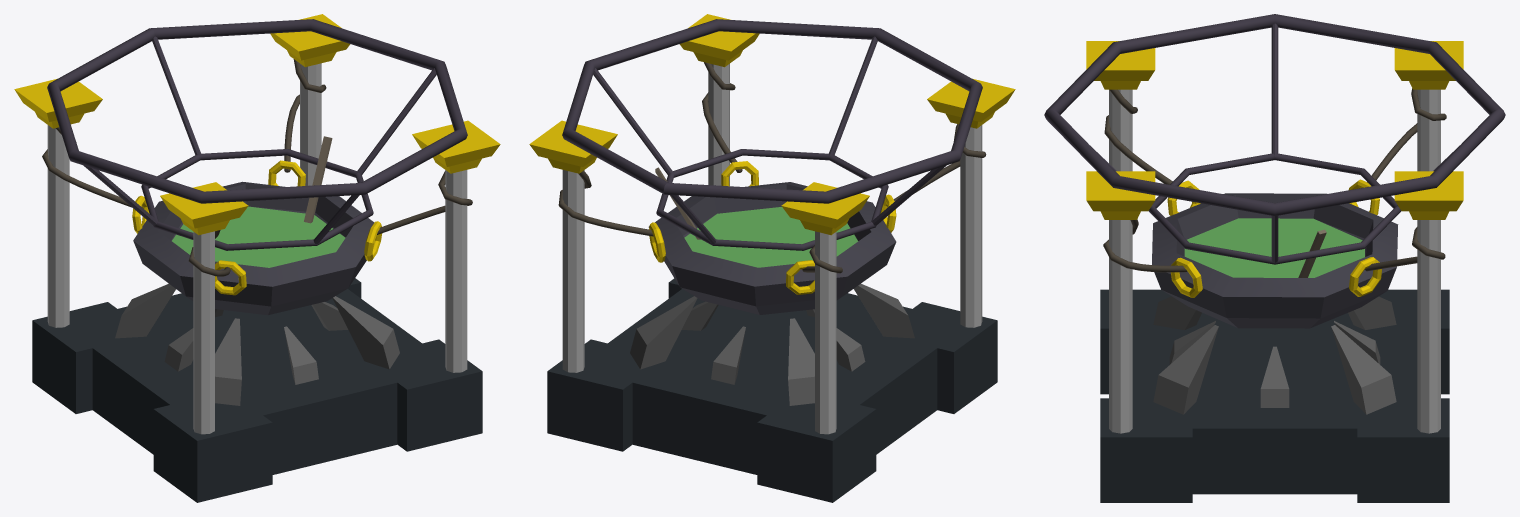
Rendered from Laboratorio.fbx.
The picture shows the model from 3 angles, left to right: view 1: azimuth 30°, elevation 25°; view 2: azimuth 150°, elevation 25°; view 3: azimuth 270°, elevation 25°; orthographic projection. The views are drawn at different scales.
Parts seen in each view (by area): view 1: polySurface31; view 2: polySurface31; view 3: polySurface31.
Boxes of the visible parts, x1,y1,x2,y2 form: polySurface31: [14, 14, 500, 502]; polySurface31: [529, 14, 1015, 502]; polySurface31: [1044, 14, 1505, 502].
Bounding box in the file's own units: 4.64 × 3.55 × 4.64.
